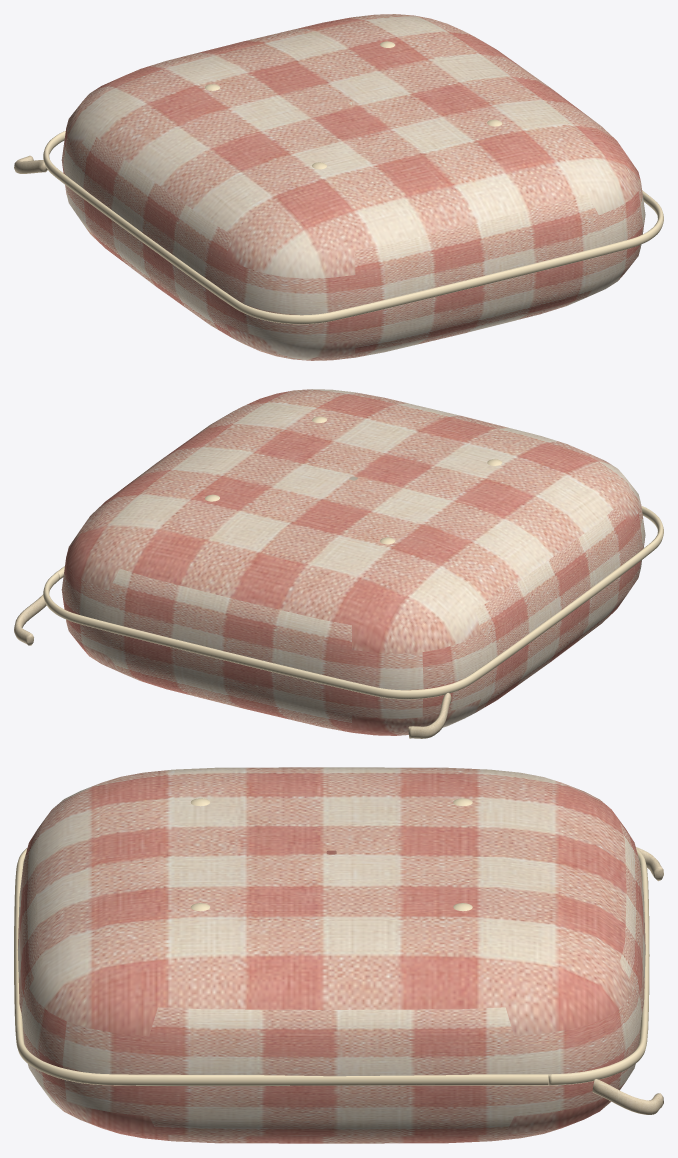
The model's file is SM_InteriorAdditions_FloorCushion.fbx.
3 renders of one model, top to bottom at view 1: azimuth 30°, elevation 25°; view 2: azimuth 150°, elevation 25°; view 3: azimuth 270°, elevation 25°, orthographic. The views are drawn at different scales.
Parts seen in each view (by area): view 1: SM_InteriorAdditions_FloorCushion; view 2: SM_InteriorAdditions_FloorCushion; view 3: SM_InteriorAdditions_FloorCushion.
Part boxes in pixels (box(x1,y1,x2,y2)): SM_InteriorAdditions_FloorCushion: box(14, 14, 663, 360); SM_InteriorAdditions_FloorCushion: box(14, 389, 663, 738); SM_InteriorAdditions_FloorCushion: box(14, 767, 663, 1143).
Size of what is drawn, in the model's own units: 56.98 by 61.43 by 21.46.
